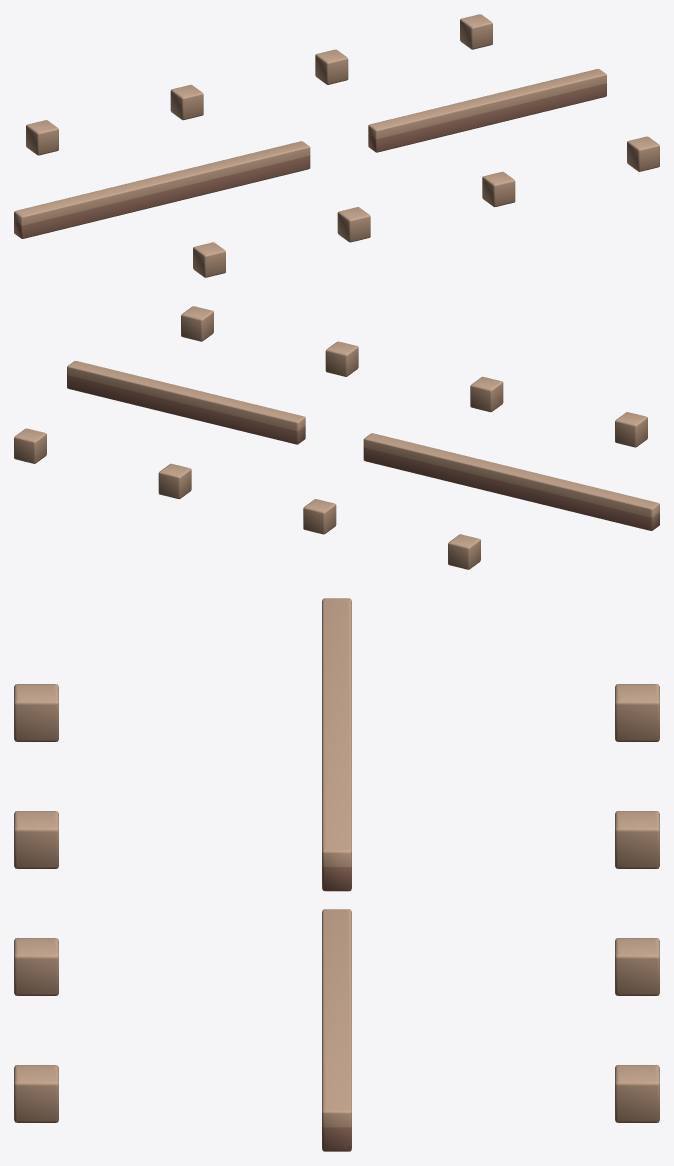
File: Props.fbx
3 views of the same model, one above another, from view 1: azimuth 30°, elevation 25°; view 2: azimuth 150°, elevation 25°; view 3: azimuth 270°, elevation 25° (orthographic). The views are drawn at different scales.
Parts seen in each view (by area): view 1: Box20-3_1, Box20-3_1 (1), Box1-5 (10), Box1-5 (11), Box1-5 (12), Box1-5 (9), Box1-5 (7), Box1-5 (13), Box1-5 (14), Box1-5 (8); view 2: Box20-3_1, Box20-3_1 (1), Box1-5 (9), Box1-5 (12), Box1-5 (11), Box1-5 (10), Box1-5 (8), Box1-5 (13), Box1-5 (14), Box1-5 (7); view 3: Box20-3_1, Box20-3_1 (1), Box1-5 (7), Box1-5 (8), Box1-5 (9), Box1-5 (10), Box1-5 (11), Box1-5 (12), Box1-5 (13), Box1-5 (14).
Boxes of the visible parts, x1,y1,x2,y2 form: Box20-3_1: (14,141,310,238); Box20-3_1 (1): (368,69,606,152); Box1-5 (10): (170,84,203,120); Box1-5 (11): (482,171,515,207); Box1-5 (12): (315,49,348,84); Box1-5 (9): (337,207,370,242); Box1-5 (7): (193,242,225,277); Box1-5 (13): (627,136,659,171); Box1-5 (14): (460,14,492,49); Box1-5 (8): (26,120,58,155); Box20-3_1: (363,433,659,530); Box20-3_1 (1): (67,361,305,444); Box1-5 (9): (470,376,503,412); Box1-5 (12): (158,463,191,499); Box1-5 (11): (325,341,358,376); Box1-5 (10): (303,499,336,534); Box1-5 (8): (448,534,480,569); Box1-5 (13): (181,306,213,341); Box1-5 (14): (14,428,46,463); Box1-5 (7): (615,412,647,447); Box20-3_1: (322,598,351,891); Box20-3_1 (1): (322,909,351,1151); Box1-5 (7): (14,684,58,741); Box1-5 (8): (615,684,659,741); Box1-5 (9): (14,811,58,868); Box1-5 (10): (615,811,659,868); Box1-5 (11): (14,938,58,995); Box1-5 (12): (615,938,659,995); Box1-5 (13): (14,1065,58,1122); Box1-5 (14): (615,1065,659,1122).
Bounding box in the file's own units: 40.5 × 1.5 × 21.5.
